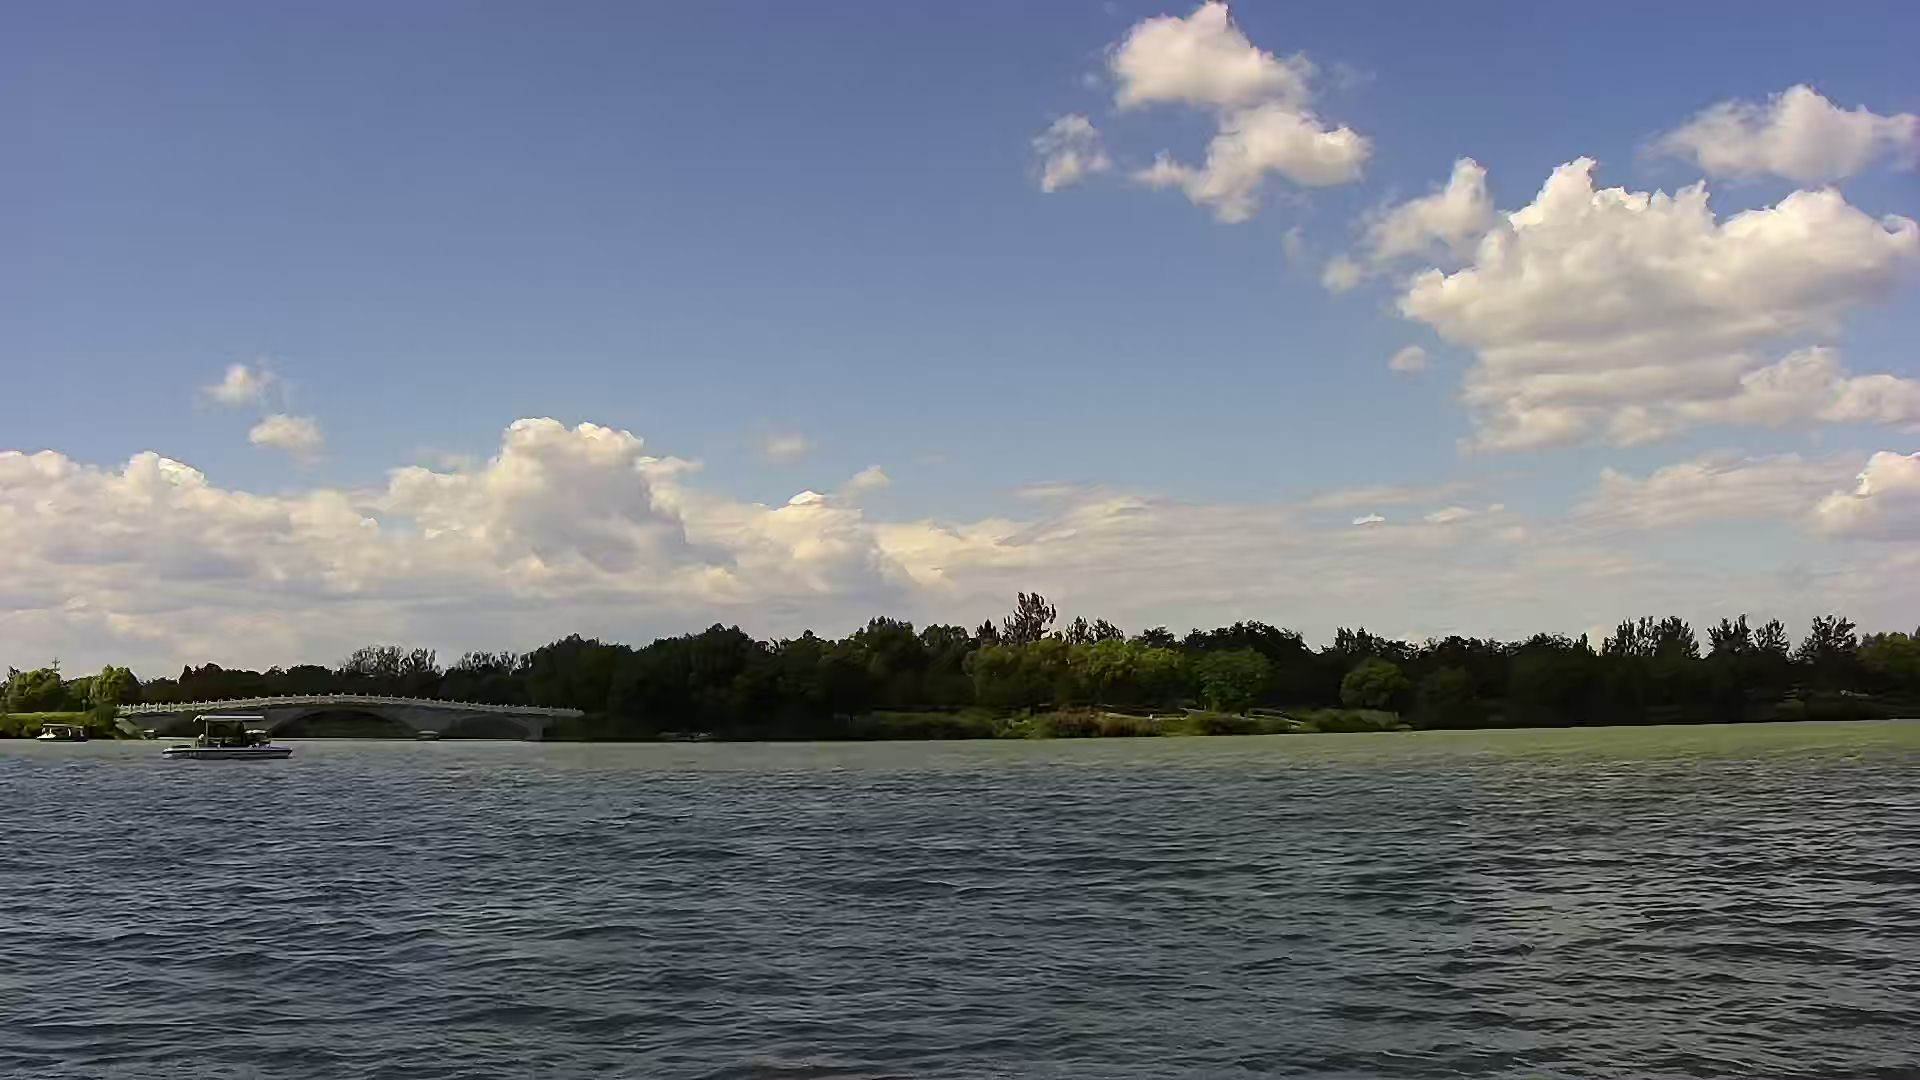boat: (162, 712, 285, 761)
bridge: (125, 688, 596, 748)
